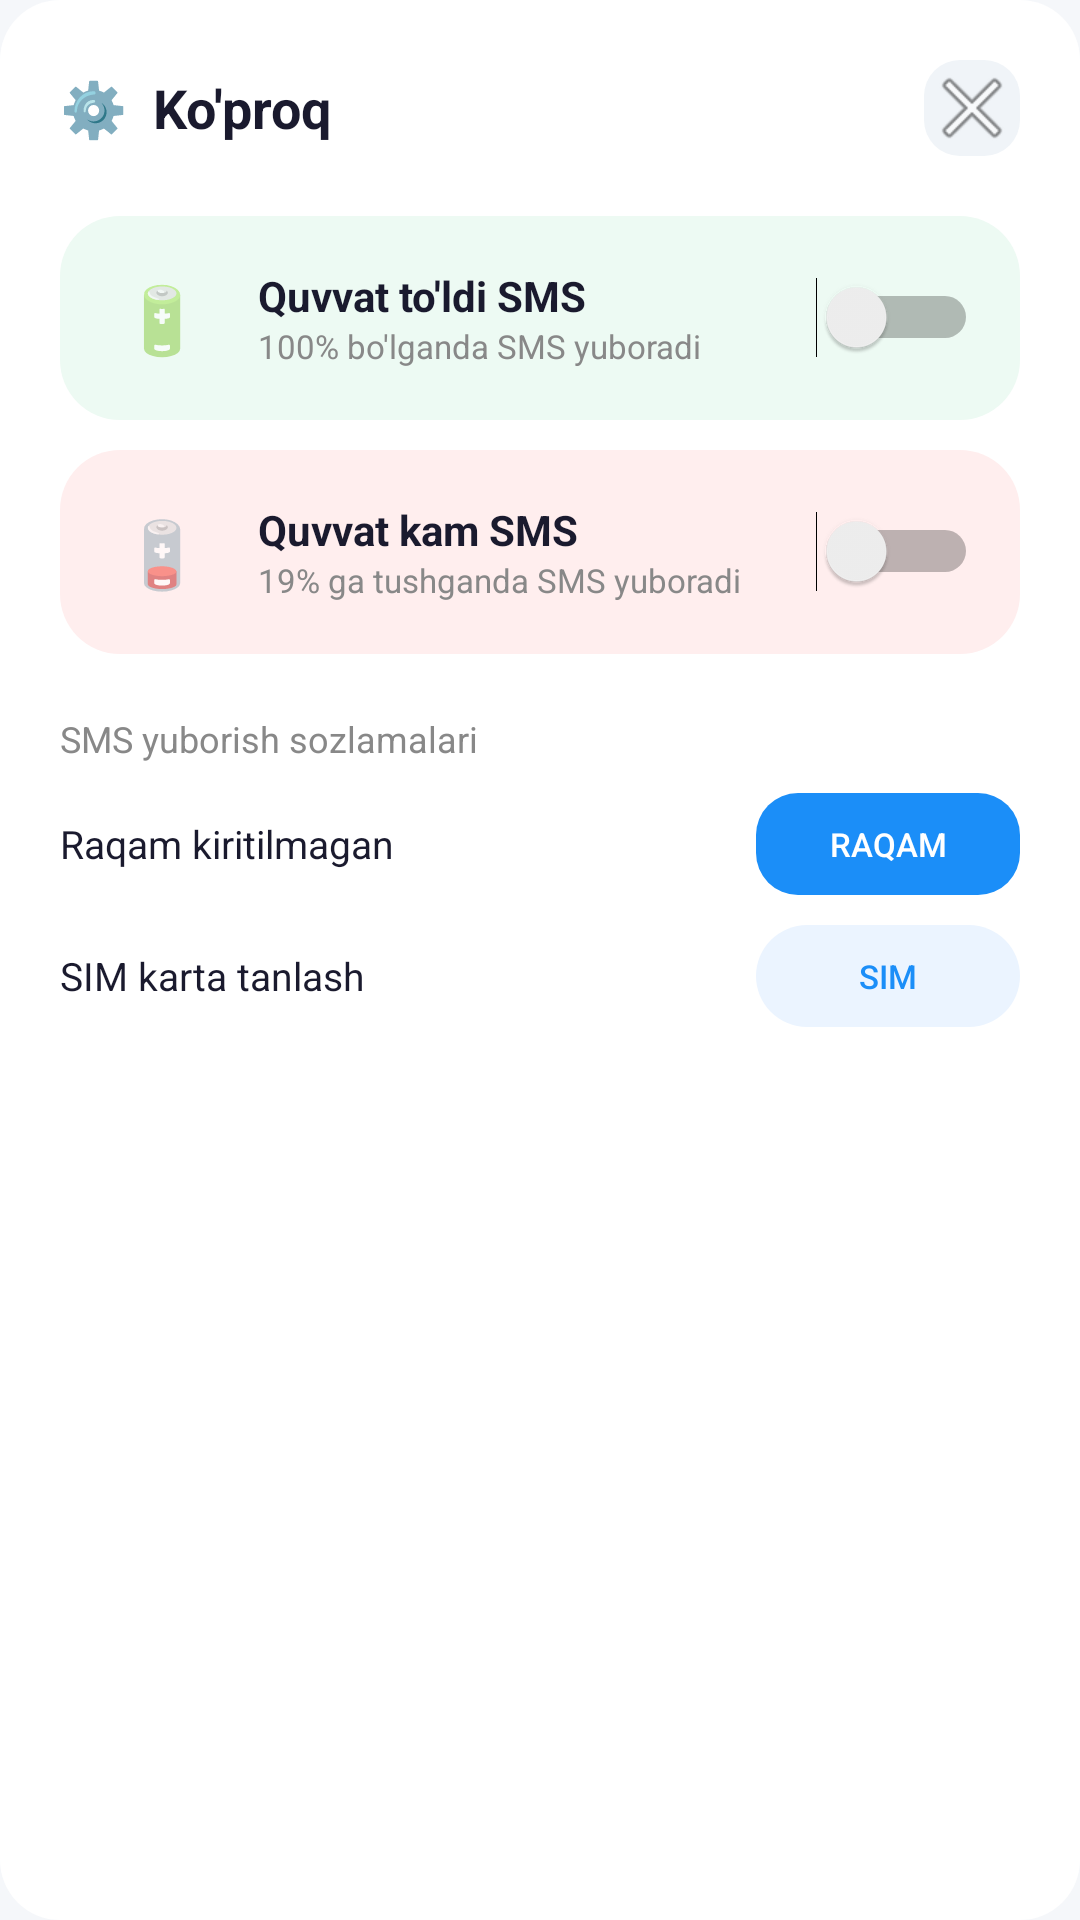

Icon bounding boxes for this 1080x1920 phone screenshot, format [x1=x1, y1=y1, x2=x2, y2=y2]:
close clear cancel: [x1=924, y1=60, x2=1020, y2=156]
